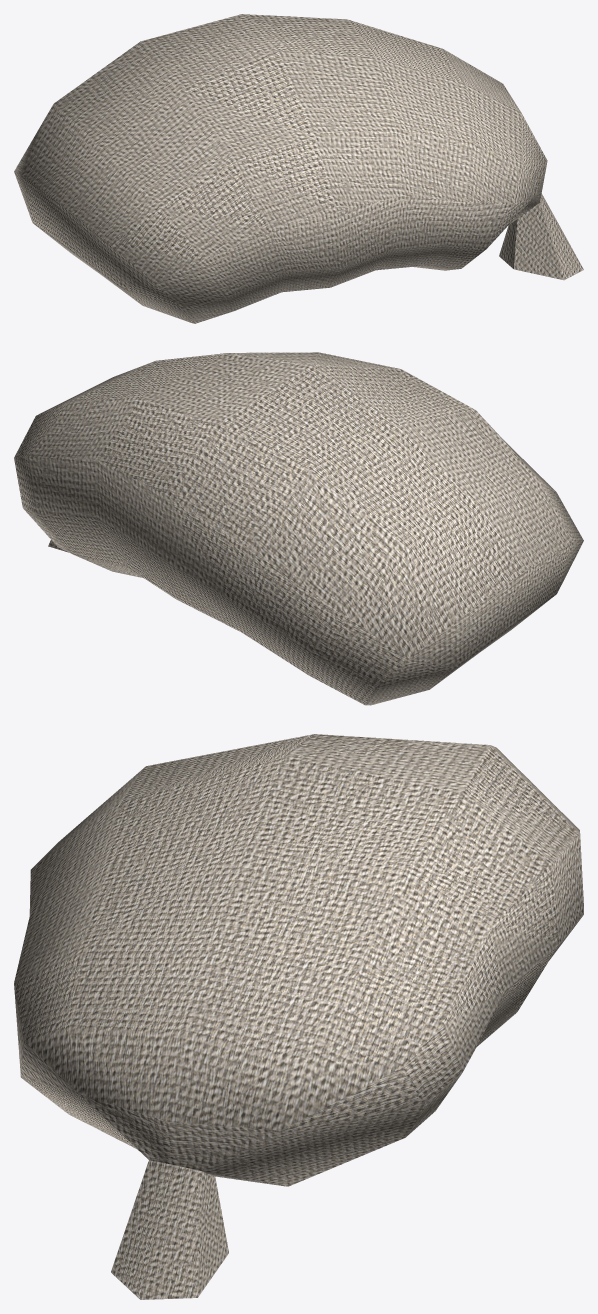
The model's file is mm_bag_4.FBX.
3 views of the same model, one above another, from view 1: azimuth 30°, elevation 25°; view 2: azimuth 150°, elevation 25°; view 3: azimuth 270°, elevation 25° (orthographic). The views are drawn at different scales.
Visible parts, largest first — view 1: bag04; view 2: bag04; view 3: bag04.
Boxes of the visible parts, bbox=[...] form: bag04: bbox=[14, 14, 583, 323]; bag04: bbox=[14, 352, 583, 705]; bag04: bbox=[14, 734, 583, 1299].
Size of the model in its own units: 66.56 by 33.78 by 48.51.
Materials: 1 (1 with a texture image).
